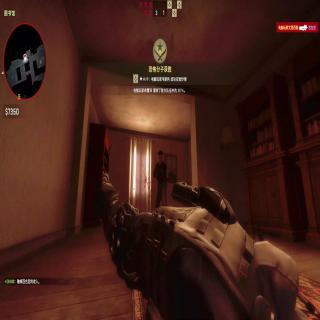T-Body: (152, 150, 170, 205)
T-Head: (157, 150, 164, 162)
